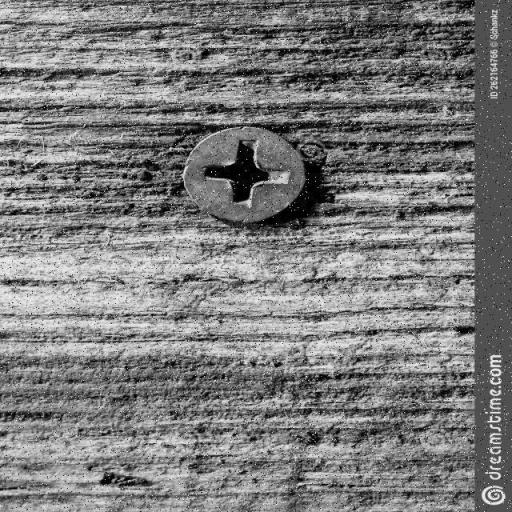Phillips: (185, 116, 307, 232)
